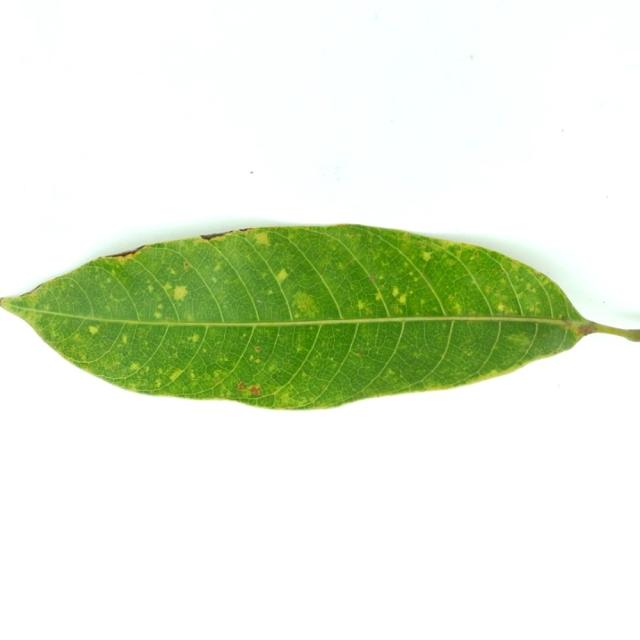Mango: (0, 225, 639, 409)
Powdery_Mildew: (6, 306, 106, 320), (292, 291, 317, 314), (529, 266, 554, 285), (109, 246, 144, 259), (273, 268, 291, 286), (505, 334, 526, 346), (173, 285, 188, 301), (254, 232, 270, 245), (190, 236, 213, 244), (278, 391, 292, 404), (561, 319, 576, 329), (248, 354, 262, 364), (172, 369, 184, 380), (452, 302, 463, 314), (445, 257, 457, 268), (421, 251, 433, 261), (88, 325, 99, 335), (218, 356, 229, 366), (187, 334, 199, 343), (72, 333, 84, 342), (250, 386, 260, 396), (524, 283, 535, 292), (241, 227, 257, 233), (397, 294, 406, 304), (357, 300, 366, 310), (184, 312, 194, 321), (140, 366, 149, 376), (109, 361, 119, 370), (0, 297, 9, 307), (334, 223, 351, 228), (164, 283, 173, 292), (496, 303, 505, 312), (213, 263, 222, 272), (213, 372, 222, 381), (130, 363, 140, 371), (488, 369, 499, 376), (345, 232, 356, 239), (375, 292, 383, 301), (42, 303, 51, 311), (468, 310, 479, 316), (238, 382, 246, 390), (154, 311, 162, 319), (369, 274, 377, 282), (448, 294, 456, 302), (412, 276, 420, 284), (121, 335, 128, 344), (485, 285, 492, 294), (357, 350, 366, 357), (387, 369, 395, 376), (147, 284, 154, 292), (189, 371, 196, 379), (268, 365, 276, 372), (155, 380, 162, 387), (301, 371, 308, 378), (500, 279, 507, 286), (559, 313, 566, 320), (183, 261, 190, 268), (420, 298, 425, 307), (211, 276, 217, 283), (296, 346, 303, 352), (261, 271, 267, 278), (337, 262, 344, 268), (472, 252, 479, 258), (170, 268, 176, 274), (255, 346, 261, 352), (293, 312, 299, 318), (106, 277, 112, 283), (329, 357, 335, 363), (82, 355, 88, 361), (500, 267, 506, 273), (307, 326, 313, 332), (267, 289, 273, 294), (408, 289, 413, 295), (202, 348, 207, 354), (241, 333, 247, 338), (414, 311, 420, 316), (469, 54, 474, 60), (409, 271, 414, 276), (256, 299, 262, 303)
